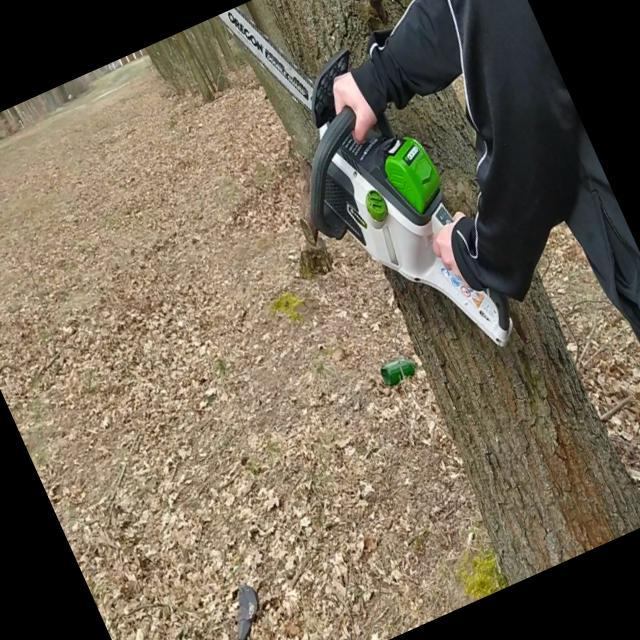Chainsaw: (212, 0, 531, 404)
